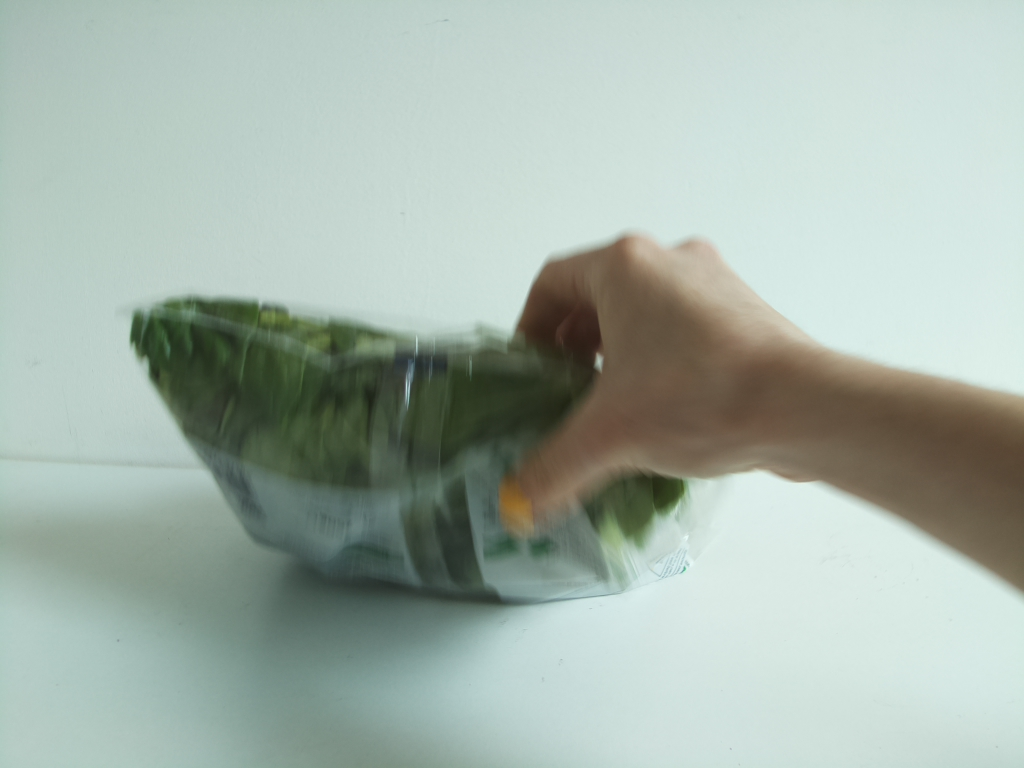salad: (124, 291, 722, 608)
